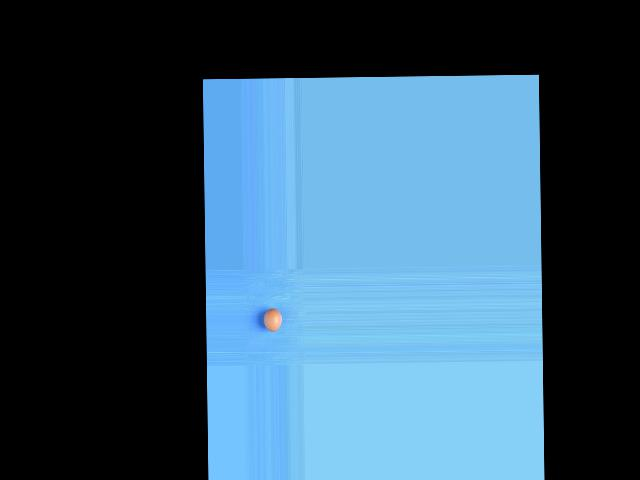egg: (262, 308, 282, 331)
